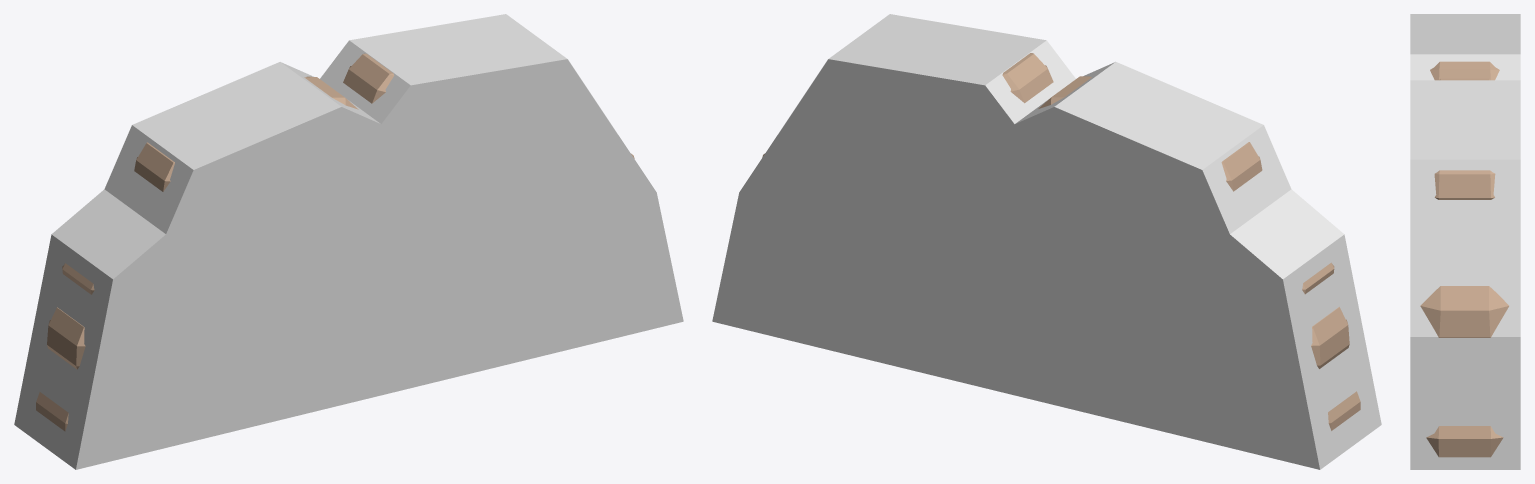
Rendered from Sandbag.fbx.
3 views of the same model, side by side, from view 1: azimuth 30°, elevation 25°; view 2: azimuth 150°, elevation 25°; view 3: azimuth 270°, elevation 25° (orthographic). The views are drawn at different scales.
Visible parts, largest first — view 1: Sandbag1C, Sandbag1_LOD0; view 2: Sandbag1C, Sandbag1_LOD0; view 3: Sandbag1C, Sandbag1_LOD0.
Part boxes in pixels (x1=…): Sandbag1C: x1=14, y1=14, x2=683, y2=469; Sandbag1_LOD0: x1=36, y1=53, x2=634, y2=431; Sandbag1C: x1=712, y1=14, x2=1381, y2=469; Sandbag1_LOD0: x1=762, y1=53, x2=1360, y2=430; Sandbag1C: x1=1410, y1=14, x2=1520, y2=469; Sandbag1_LOD0: x1=1420, y1=61, x2=1508, y2=457.
Size of what is drawn, in the model's own units: 203 by 96.7 by 35.66.
1 material, 1 textured.
